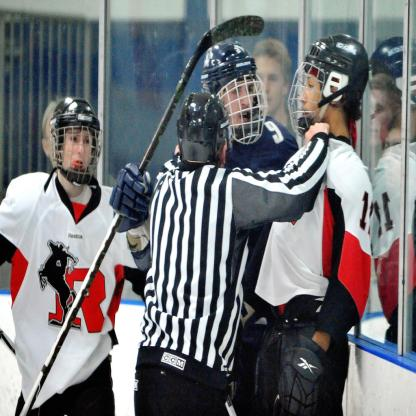Helmet: (284, 29, 370, 142), (199, 44, 268, 142), (48, 98, 107, 184), (177, 89, 233, 166)
